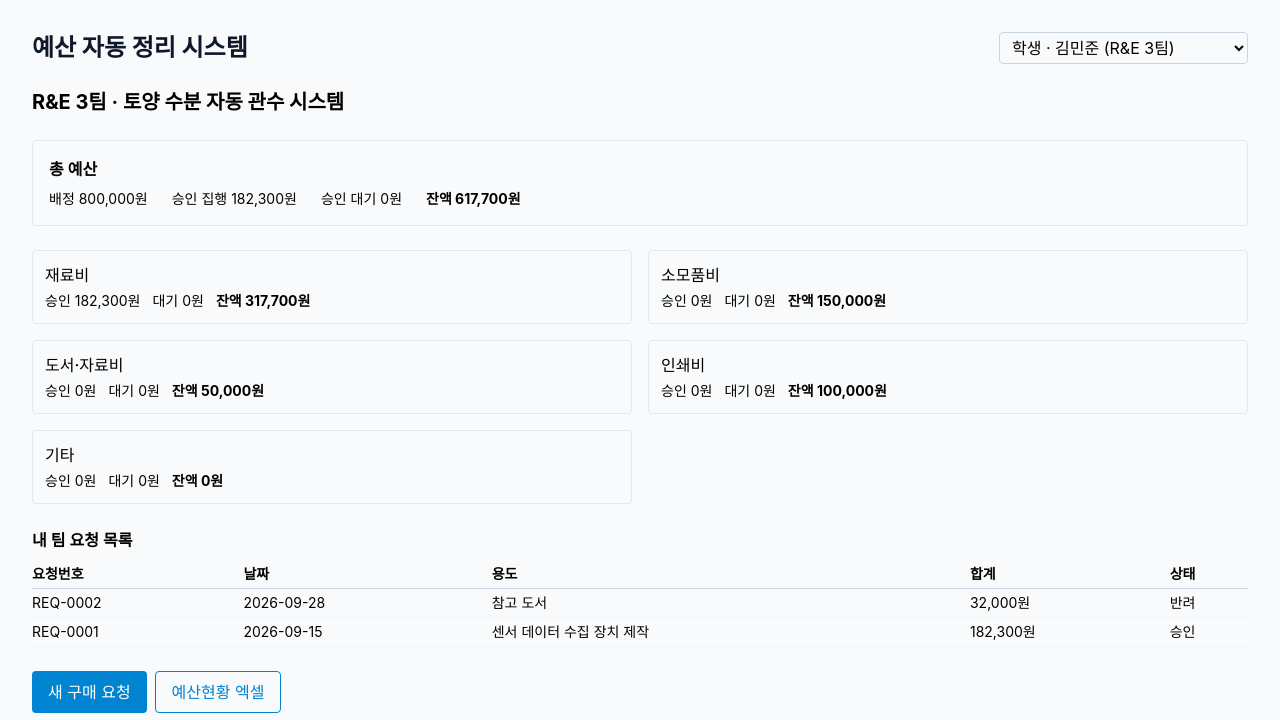
Test: App › 역할을 다른 학생 팀으로 전환하면 해당 팀 홈이 보인다
The width and height of the screenshot is (1280, 720).
Select "학생 · 한도윤 (로봇공학 동아리)" in the dropdown with test id "role-select" at (1124, 48), box [999,32,1248,64]
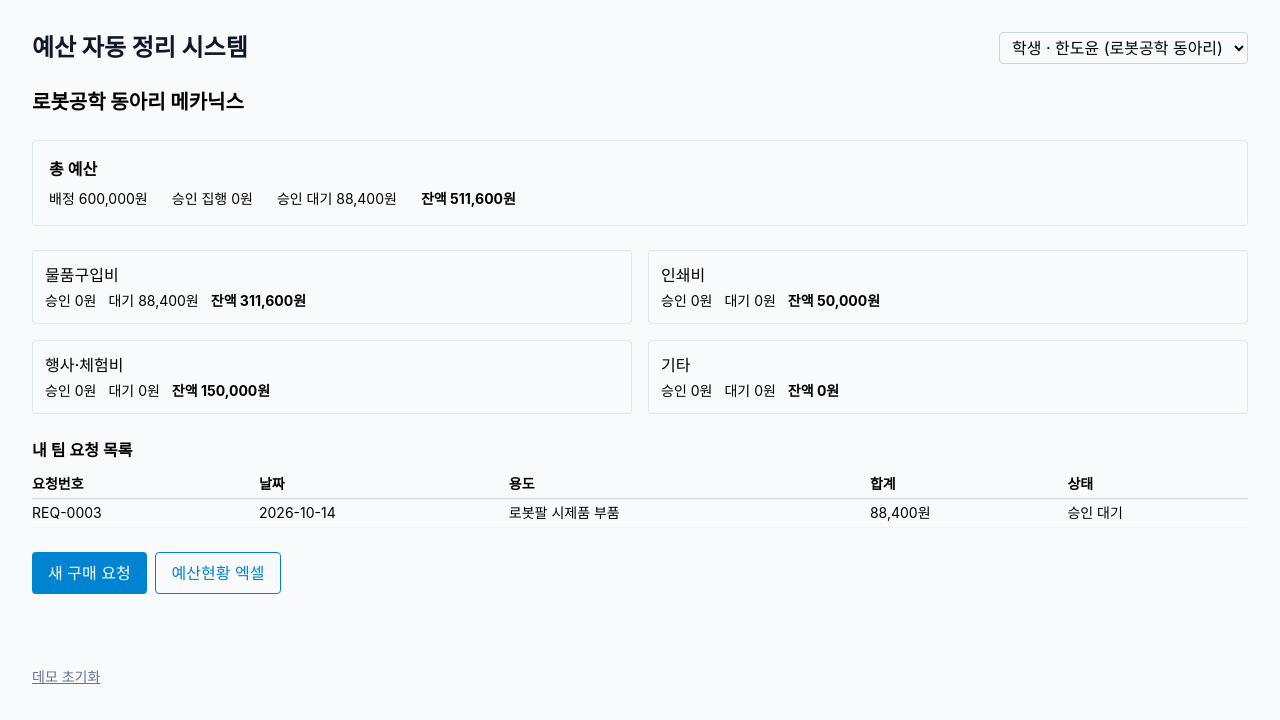
expect the heading "로봇공학 동아리 메카닉스" is shown: met, box [32,90,244,114]
